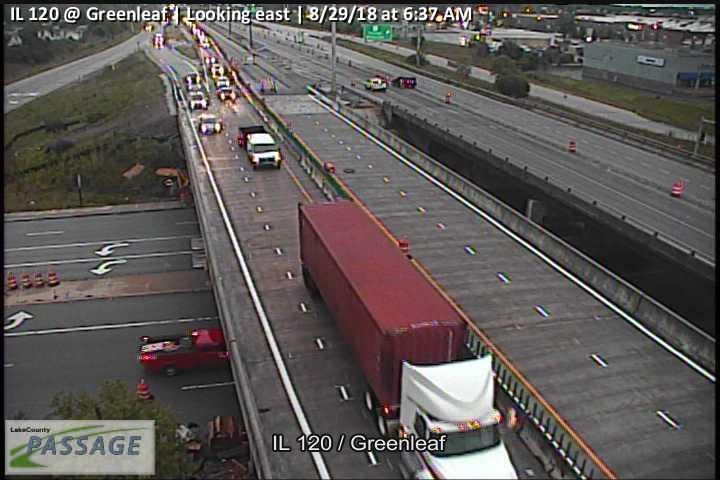SUV: (246, 131, 283, 169), (199, 113, 221, 135), (188, 90, 207, 110), (365, 75, 387, 91), (218, 86, 237, 104)
Truck: (297, 198, 520, 480), (137, 324, 230, 377)
